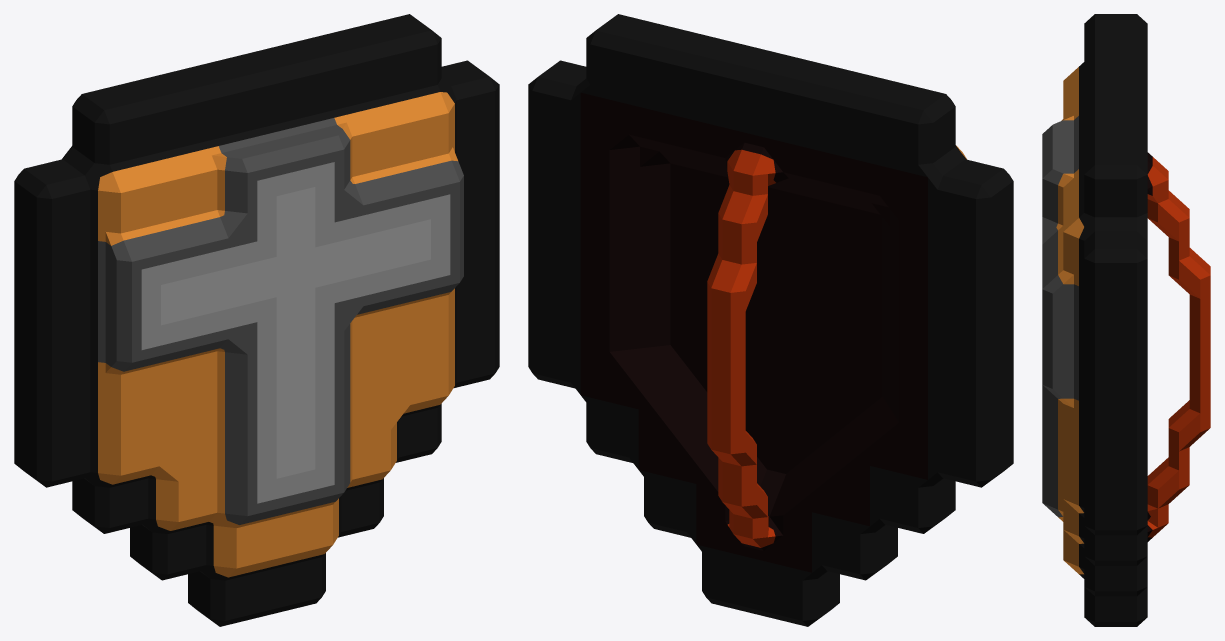
The model's file is ShieldP_LOD1.fbx.
The picture shows the model from 3 angles, left to right: view 1: azimuth 30°, elevation 25°; view 2: azimuth 150°, elevation 25°; view 3: azimuth 270°, elevation 25°; orthographic projection. The views are drawn at different scales.
Visible parts, largest first — view 1: node; view 2: node; view 3: node.
Boxes of the visible parts, box(x1,y1,x2,y2) form: node: box(14, 14, 499, 626); node: box(528, 14, 1013, 626); node: box(1042, 14, 1210, 626).
Size of the model in its own units: 2400 by 2700 by 800.
